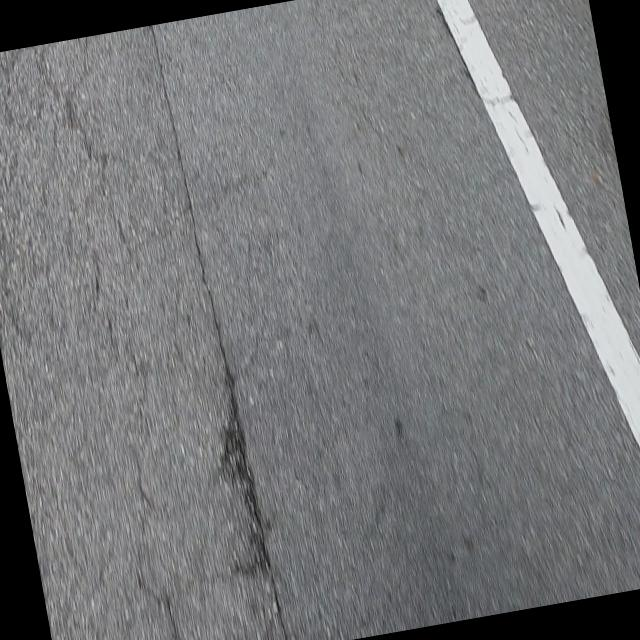Retak-Memanjang: (146, 24, 291, 640)
